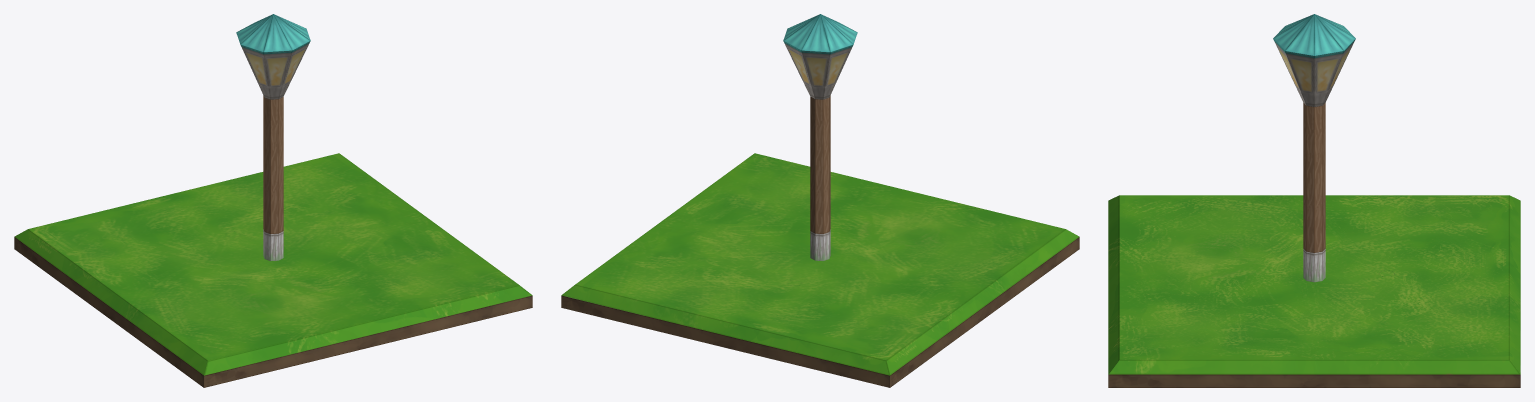
The model's file is Lamp.fbx.
3 views of the same model, side by side, from view 1: azimuth 30°, elevation 25°; view 2: azimuth 150°, elevation 25°; view 3: azimuth 270°, elevation 25° (orthographic). The views are drawn at different scales.
Parts seen in each view (by area): view 1: Lamp; view 2: Lamp; view 3: Lamp.
Boxes of the visible parts, left/top/right/bottom form: Lamp: left=14, top=14, right=532, bottom=387; Lamp: left=561, top=14, right=1079, bottom=387; Lamp: left=1108, top=14, right=1520, bottom=387.
Bounding box in the file's own units: 51.25 × 39.38 × 51.25.
1 material, 1 textured.
